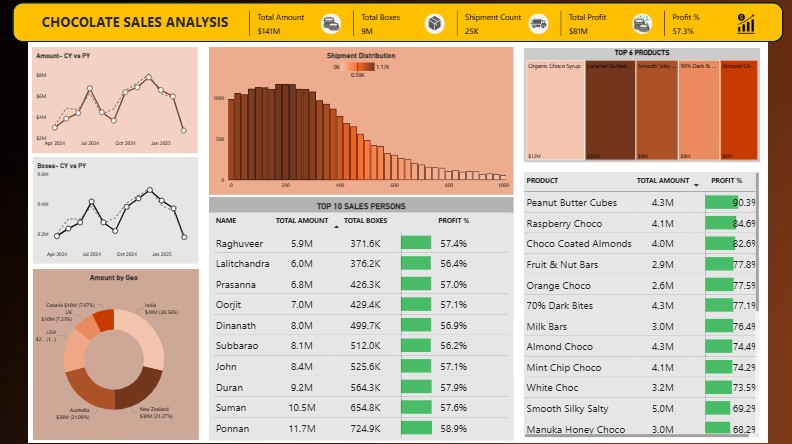

Layout of this report page (visuals, bound fields, positions):
{"tool":"powerbi","page":{"name":"Report","canvas":[1920,1080],"ordinal":7},"visuals":[{"type":"lineChart","title":"Amount- CY vs PY","fields":{"Category":["calendar.Start of Month"],"Y":["shipments.Total Amount","shipments.Total Amount(last year)"]},"box":[95,114,395,253],"z":0},{"type":"lineChart","title":"Boxes- CY vs PY","fields":{"Category":["calendar.Start of Month"],"Y":["shipments.Total Boxes","shipments.Total boxes(last year)"]},"box":[98,376,394,254],"z":1000},{"type":"donutChart","title":"Amount by Geo","fields":{"Category":["locations.Geo"],"Y":["shipments.Total Amount"]},"box":[98,644,395,407],"z":2000},{"type":"clusteredColumnChart","title":"Shipment Distribution","fields":{"Y":["shipments.Shipment Count"],"Category":["shipments.Boxes (bins)"]},"box":[516,114,725,352],"z":3000},{"type":"tableEx","title":"TOP 10 SALES PERSONS","fields":{"Values":["people.Name","shipments.Total Amount","shipments.Total Boxes","shipments.Profit %"]},"box":[516.7,471.7,725,580],"z":4000},{"type":"treemap","title":"TOP 6 PRODUCTS","fields":{"Group":["products.Product"],"Values":["shipments.Total Amount"]},"box":[1266,116,562,272],"z":5000},{"type":"tableEx","title":"TOP 10 SALES PERSONS","fields":{"Values":["products.Product","shipments.Total Amount","shipments.Profit %"]},"box":[1266,412,560,632],"z":6000},{"type":"cardVisual","fields":{"Data":["shipments.Total Amount","shipments.Total Boxes","shipments.Shipment Count","shipments.Total Profit","shipments.Profit %"]},"box":[606,21,1240,73],"z":7000},{"type":"textbox","box":[95,25,491.2,63.8],"z":8000}]}

Visuals, with their boxes in screenshot pixels (x1, y1, x2, y2), scaled from the page's 1920x1080 canvas onto the 792x444 screenshot:
"Amount- CY vs PY" lineChart: box=[39, 47, 202, 151]
"Boxes- CY vs PY" lineChart: box=[40, 155, 203, 259]
"Amount by Geo" donutChart: box=[40, 265, 203, 432]
"Shipment Distribution" clusteredColumnChart: box=[213, 47, 512, 192]
"TOP 10 SALES PERSONS" tableEx: box=[213, 194, 512, 432]
"TOP 6 PRODUCTS" treemap: box=[522, 48, 754, 160]
"TOP 10 SALES PERSONS" tableEx: box=[522, 169, 753, 429]
cardVisual - shipments.Total Amount x shipments.Total Boxes: box=[250, 9, 761, 39]
textbox: box=[39, 10, 242, 37]
